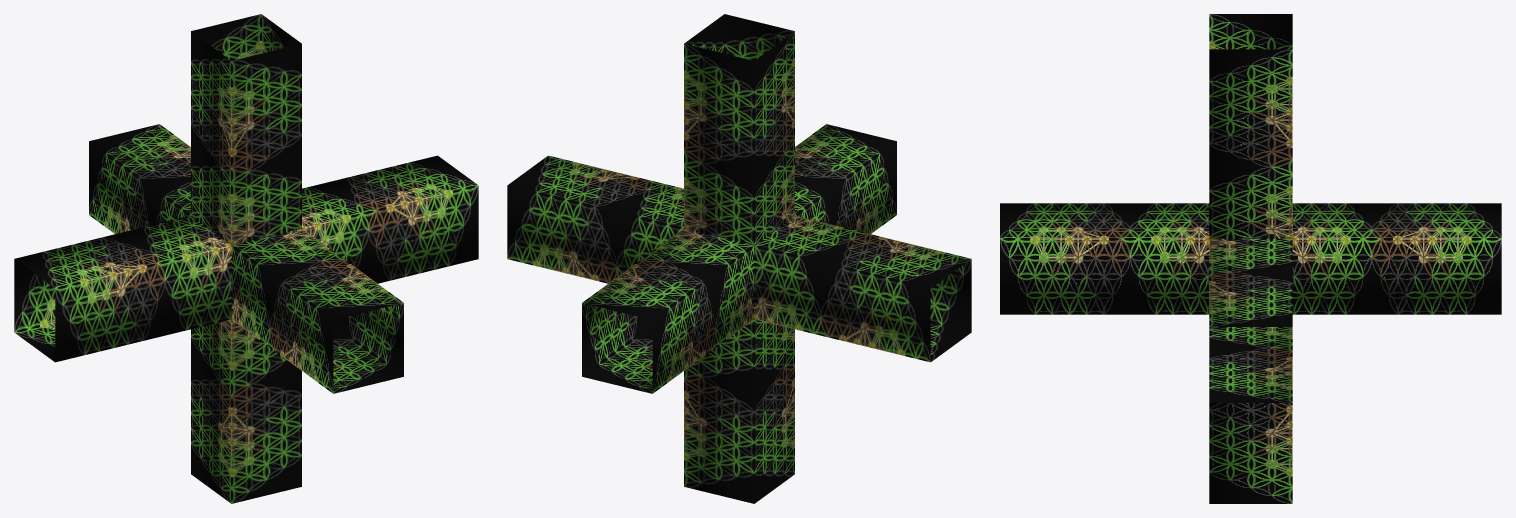
File: Tetrahemihexacron15.gltf
3 views of the same model, side by side, from view 1: azimuth 30°, elevation 25°; view 2: azimuth 150°, elevation 25°; view 3: azimuth 270°, elevation 25° (orthographic). The views are drawn at different scales.
Parts seen in each view (by area): view 1: Tetrahemihexacron1; view 2: Tetrahemihexacron1; view 3: Tetrahemihexacron1.
Boxes of the visible parts, x1,y1,x2,y2 form: Tetrahemihexacron1: (14,14,478,503); Tetrahemihexacron1: (507,14,971,503); Tetrahemihexacron1: (1000,14,1501,503).
Bounding box in the file's own units: 6 × 6 × 6.
Materials: 1 (1 with a texture image).
